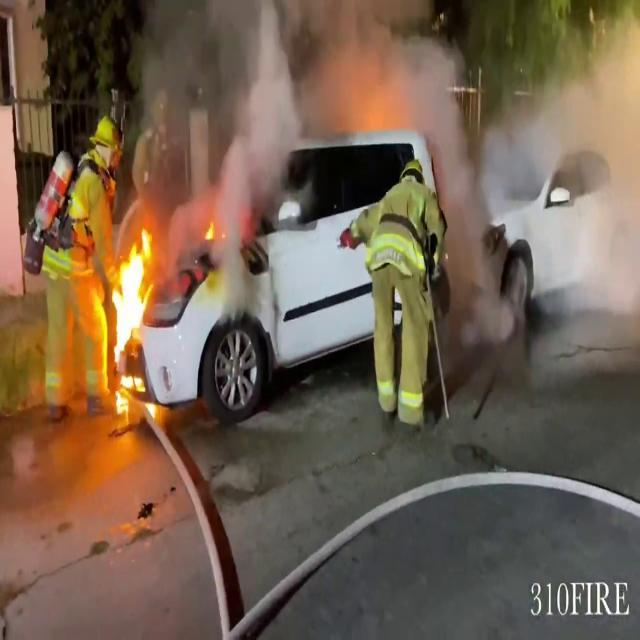Fire: (101, 224, 160, 406)
Smoke: (121, 0, 483, 261)
